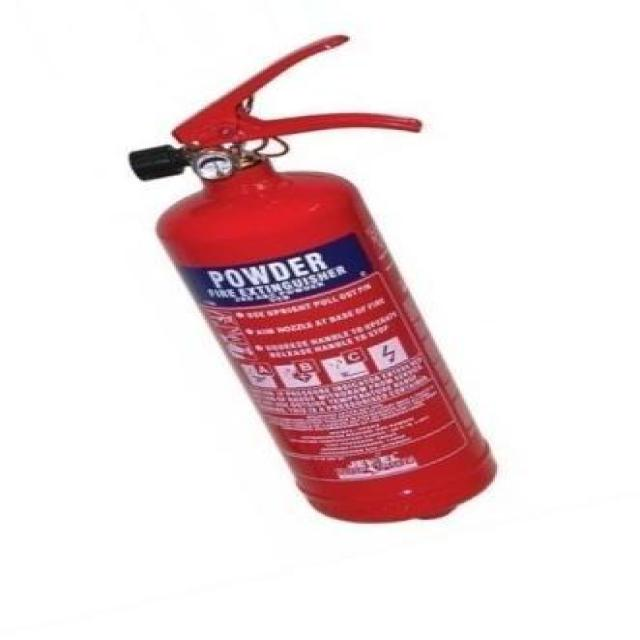fire_extinguisher: (116, 29, 503, 526)
